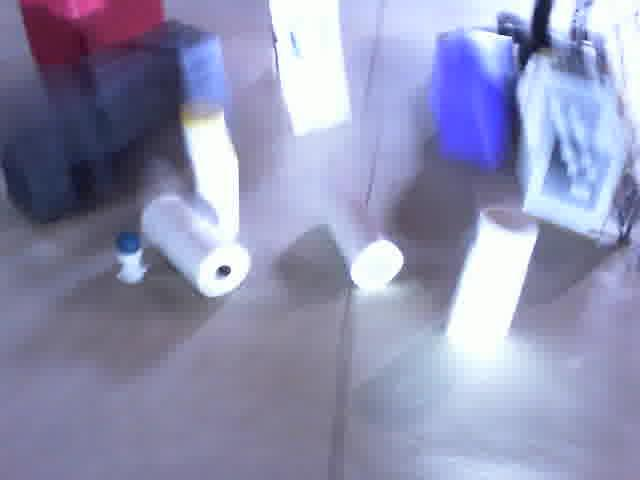coral: (449, 199, 548, 360), (317, 173, 418, 294)
